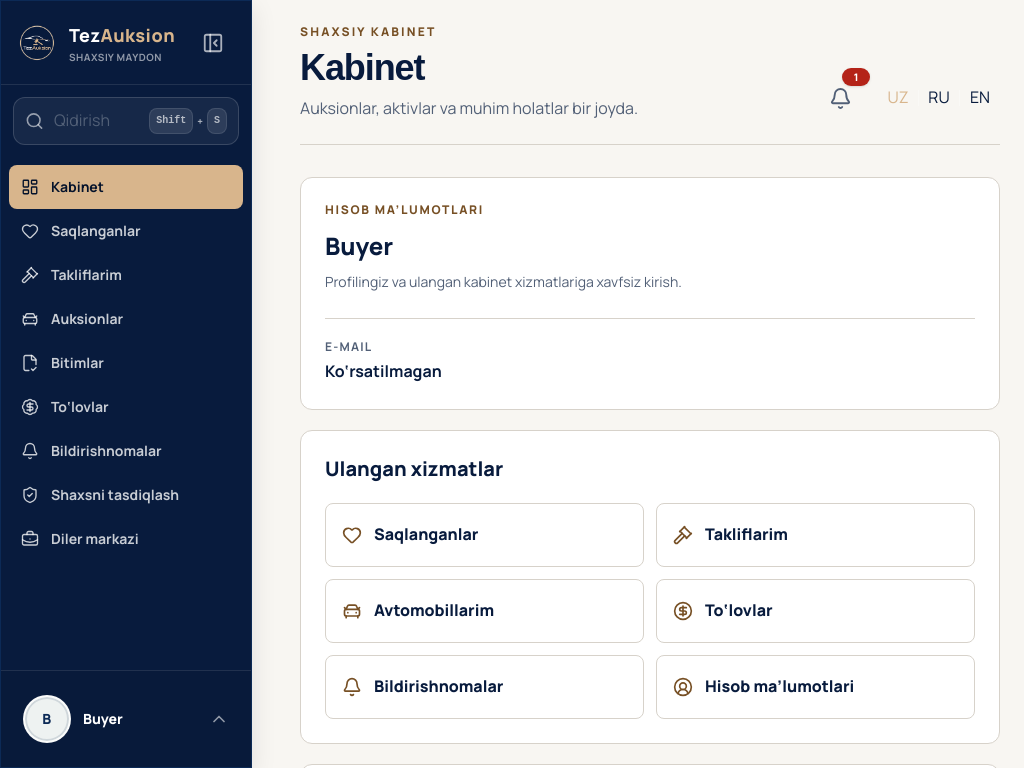
Scenario: CabinetRouter access, routes, and production integrity › shows unread notifications in the dashboard header dropdown
Click the button named "bildirishnomalar markazi: 1": (840, 98) [818,76,862,120]
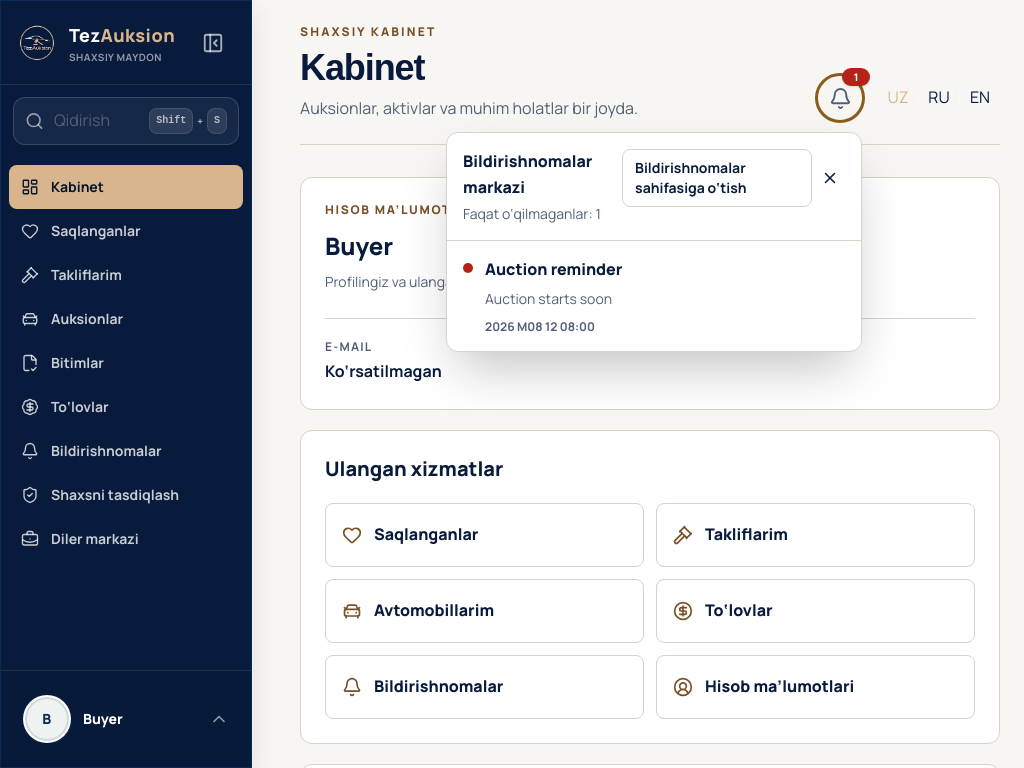
Result: the text "Auction reminder" is shown at [485,257,622,283]
